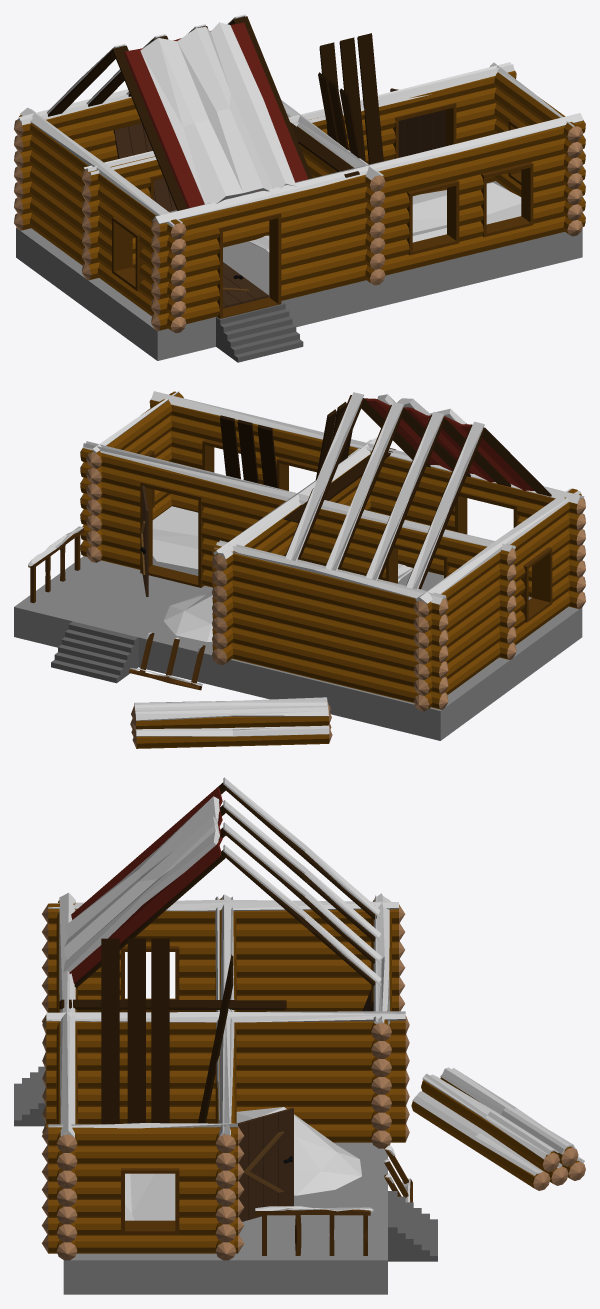
The model's file is House_08_Merged.fbx.
3 views of the same model, one above another, from view 1: azimuth 30°, elevation 25°; view 2: azimuth 150°, elevation 25°; view 3: azimuth 270°, elevation 25° (orthographic). The views are drawn at different scales.
Parts seen in each view (by area): view 1: House_08_Merged; view 2: House_08_Merged; view 3: House_08_Merged.
Boxes of the visible parts, x1=… form: House_08_Merged: x1=14, y1=14, x2=585, y2=362; House_08_Merged: x1=14, y1=391, x2=585, y2=748; House_08_Merged: x1=14, y1=777, x2=585, y2=1294.
Size of the model in its own units: 576 by 329 by 572.
